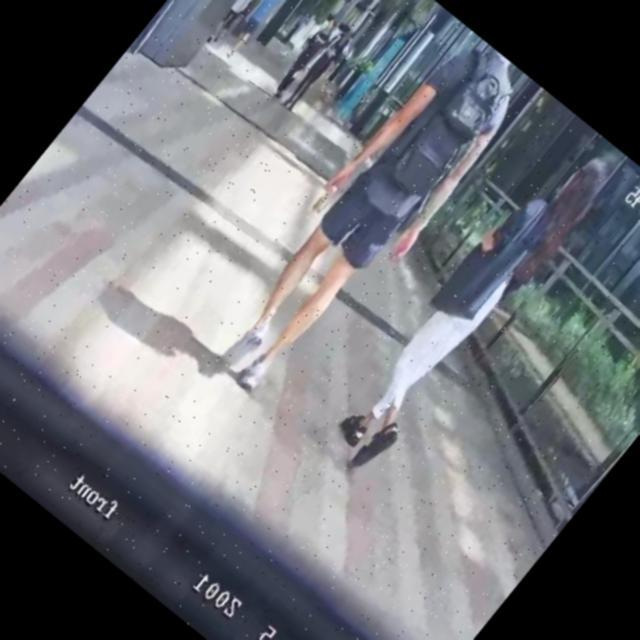person: (192, 21, 541, 416), (312, 129, 625, 492), (280, 24, 362, 117), (267, 12, 343, 100), (219, 0, 300, 62), (204, 0, 275, 47)
